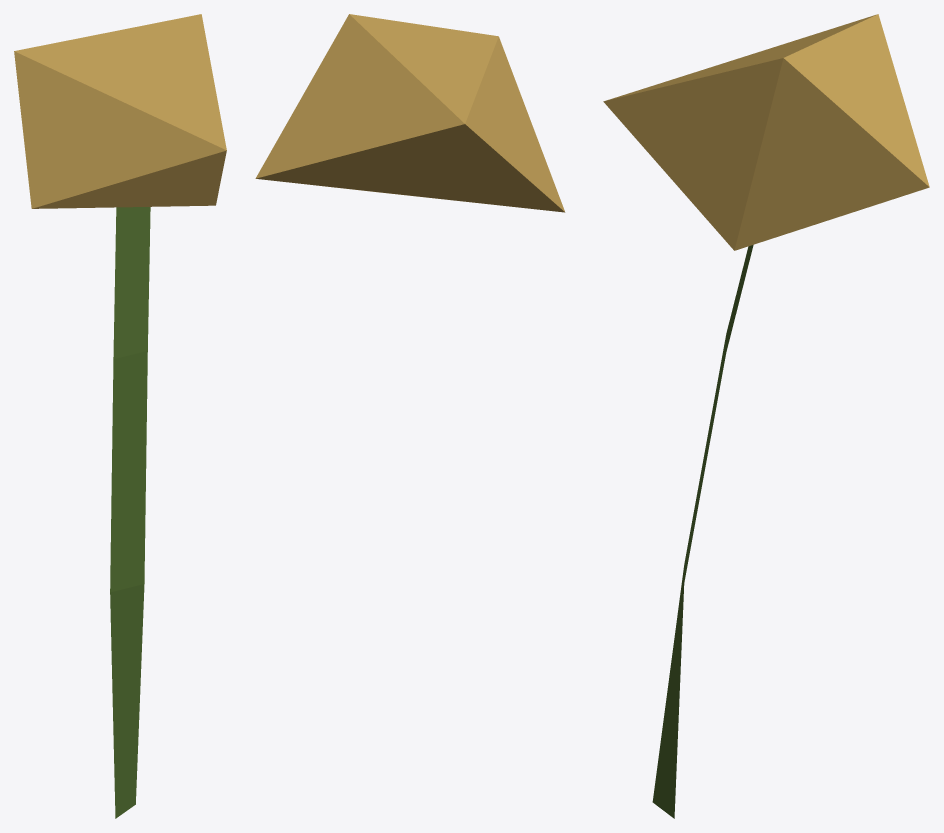
File: Flower_D.glb
3 views of the same model, side by side, from view 1: azimuth 30°, elevation 25°; view 2: azimuth 150°, elevation 25°; view 3: azimuth 270°, elevation 25° (orthographic). The views are drawn at different scales.
Parts seen in each view (by area): view 1: Flower_D_LOD0; view 2: Flower_D_LOD0; view 3: Flower_D_LOD0.
Part boxes in pixels (box(x1,y1,x2,y2)): Flower_D_LOD0: box(14, 14, 226, 818); Flower_D_LOD0: box(255, 14, 565, 212); Flower_D_LOD0: box(603, 14, 929, 818).
Size of what is drawn, in the model's own units: 0.0601 by 0.2078 by 0.0747.
